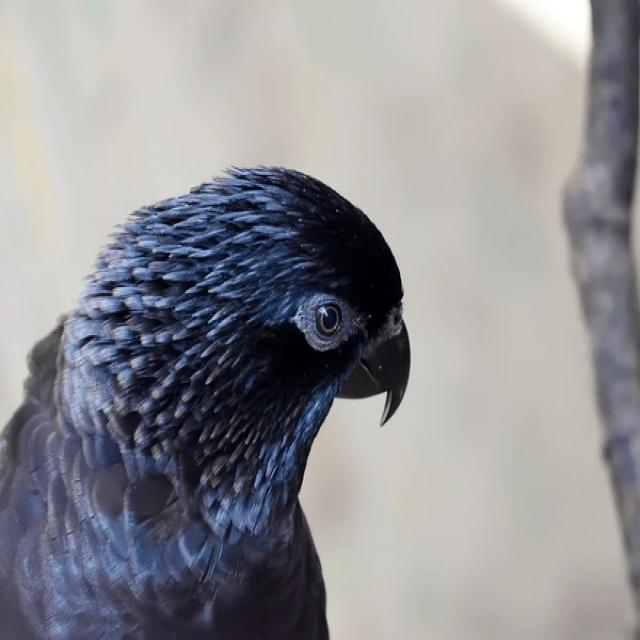Nuri Hitam: (0, 149, 437, 640)
